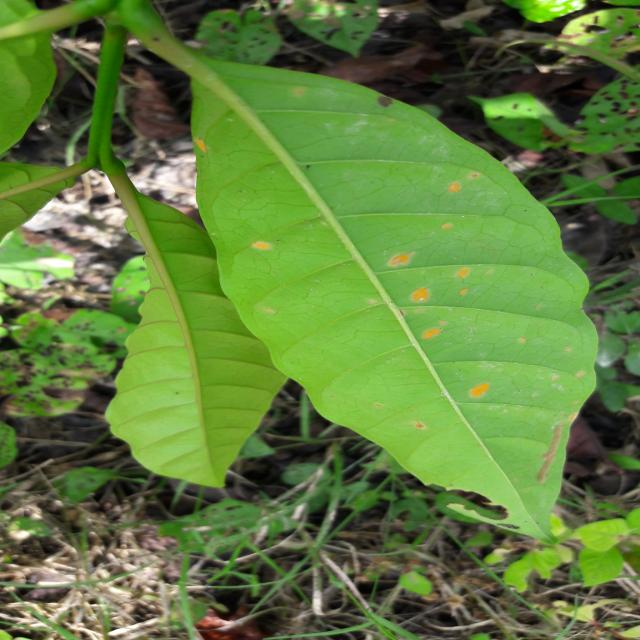Enfermedad-Roya: (200, 51, 599, 534)
